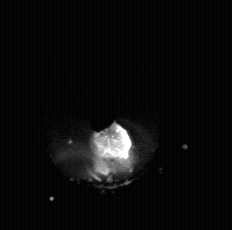arame: (92, 0, 117, 133)
poca: (51, 0, 157, 230)
